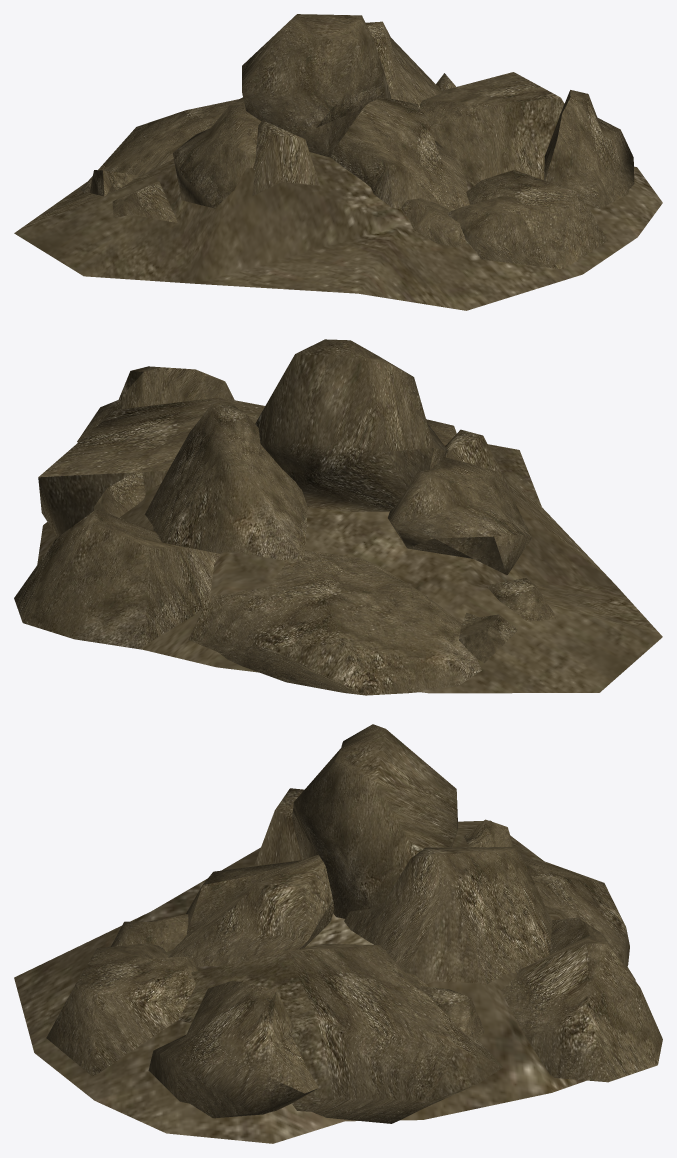
The model's file is rockpile_cave_volcano.fbx.
3 renders of one model, top to bottom at view 1: azimuth 30°, elevation 25°; view 2: azimuth 150°, elevation 25°; view 3: azimuth 270°, elevation 25°, orthographic. The views are drawn at different scales.
Parts seen in each view (by area): view 1: dirt, rock_11, rock_2, rock_4, rock_13, rock_3, rock_6, rock_5, rock_14, rock_12, rock_10, rock_7 (+1 smaller); view 2: dirt, rock_5, rock_11, rock_1, rock_12, rock_2, rock_6, rock_3, rock_9, rock_7, rock_14, rock_8; view 3: rock_2, dirt, rock_12, rock_11, rock_1, rock_3, rock_13, rock_4, rock_5, rock_14, rock_10, rock_8 (+1 smaller).
Boxes of the visible parts, bbox=[...] form: dirt: bbox=[14, 97, 662, 310]; rock_11: bbox=[242, 14, 391, 157]; rock_2: bbox=[420, 72, 564, 185]; rock_4: bbox=[447, 170, 607, 269]; rock_13: bbox=[330, 97, 469, 210]; rock_3: bbox=[544, 90, 634, 208]; rock_6: bbox=[173, 105, 261, 208]; rock_5: bbox=[81, 99, 244, 193]; rock_14: bbox=[252, 120, 319, 195]; rock_12: bbox=[366, 21, 443, 105]; rock_10: bbox=[400, 198, 466, 247]; rock_7: bbox=[112, 181, 177, 222]; dirt: bbox=[37, 444, 662, 693]; rock_5: bbox=[188, 550, 481, 695]; rock_11: bbox=[255, 339, 448, 511]; rock_1: bbox=[14, 509, 220, 649]; rock_12: bbox=[144, 404, 307, 560]; rock_2: bbox=[38, 397, 264, 537]; rock_6: bbox=[388, 457, 532, 574]; rock_3: bbox=[77, 366, 234, 442]; rock_9: bbox=[459, 612, 517, 662]; rock_7: bbox=[487, 578, 557, 621]; rock_14: bbox=[445, 429, 515, 501]; rock_8: bbox=[93, 468, 145, 517]; rock_2: bbox=[178, 944, 503, 1123]; dirt: bbox=[14, 820, 635, 1143]; rock_12: bbox=[344, 847, 552, 984]; rock_11: bbox=[292, 724, 457, 918]; rock_1: bbox=[501, 917, 662, 1082]; rock_3: bbox=[148, 980, 318, 1118]; rock_13: bbox=[168, 854, 334, 967]; rock_4: bbox=[46, 943, 197, 1076]; rock_5: bbox=[522, 857, 629, 968]; rock_14: bbox=[254, 788, 304, 865]; rock_10: bbox=[111, 914, 188, 951]; rock_8: bbox=[419, 986, 484, 1039].
Size of the model in its own units: 1713 by 590 by 1453.
Materials: 1 (1 with a texture image).
